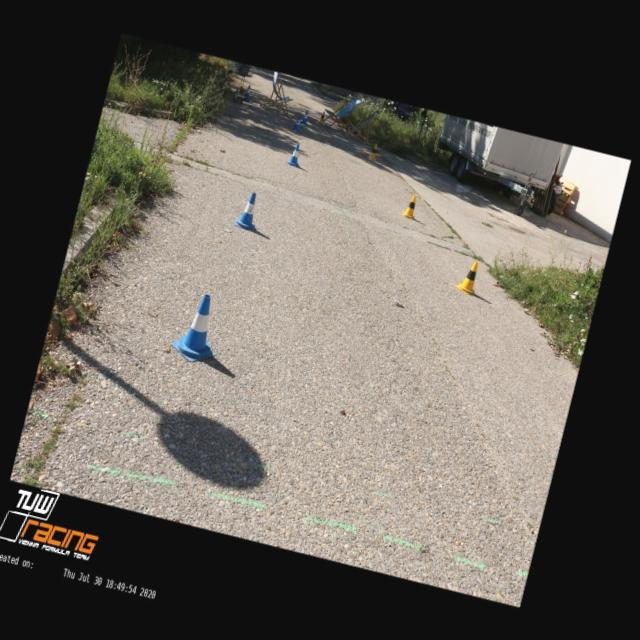blue_cone: (168, 288, 228, 366), (234, 190, 262, 232), (286, 143, 302, 167), (290, 113, 304, 132), (241, 84, 253, 101), (299, 109, 310, 126)
yellow_cone: (454, 258, 482, 296), (400, 193, 419, 220), (366, 143, 378, 162), (316, 110, 326, 124)
